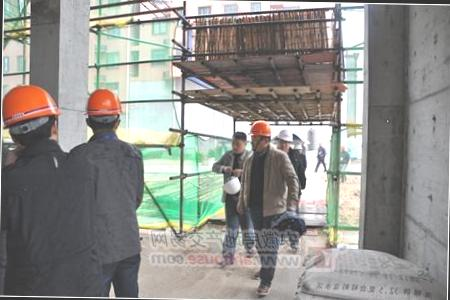no_helmet: (227, 130, 248, 156)
